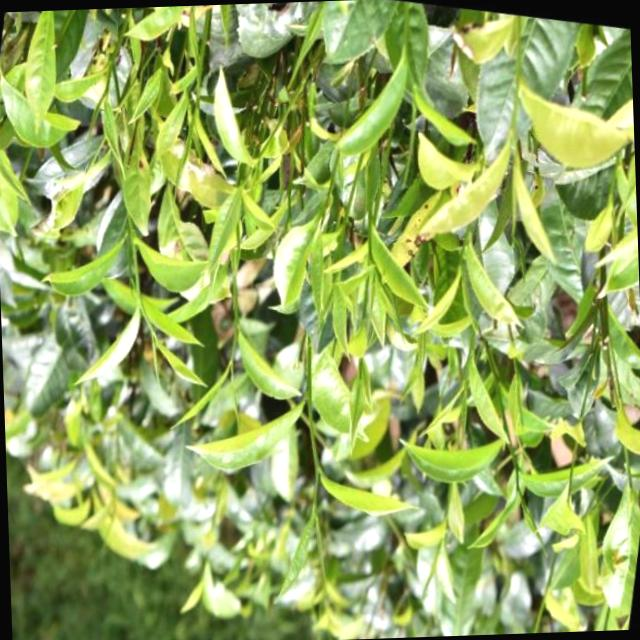Stem: (402, 31, 409, 43), (136, 293, 142, 306), (509, 116, 515, 125), (311, 499, 315, 509), (228, 353, 233, 361), (357, 368, 361, 377), (515, 482, 518, 490)
